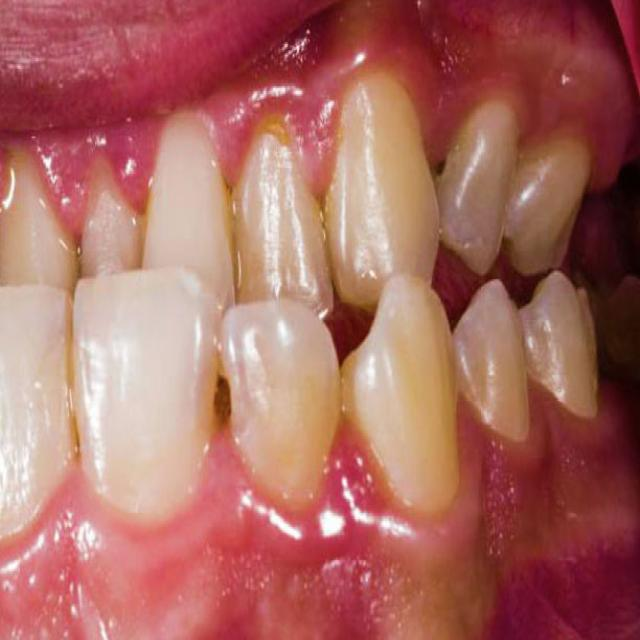caries: (196, 361, 242, 447), (426, 143, 463, 190)
